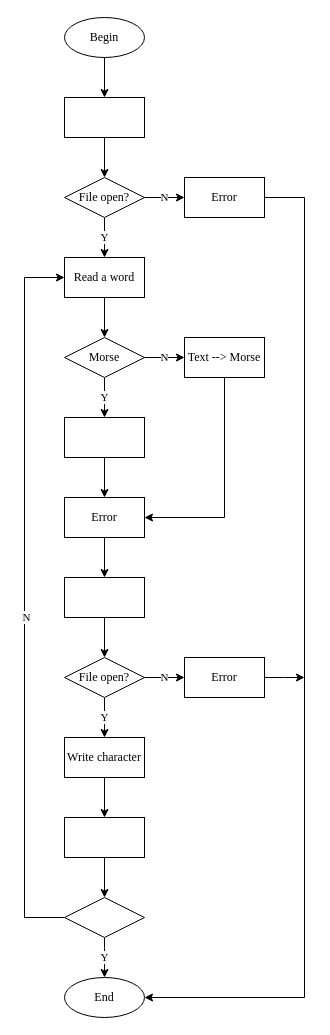
Some shapes in this 330 by 1035 pixel diagram are drawn without their labels. The centre of each missing label's shape, as x and y in pixels:
"Close file result" belongs at (104,837).
"End of file" belongs at (104,917).
"Morse -> Text" belongs at (104,437).
"Open file data" belongs at (104,117).
"Open file result" belongs at (104,597).
